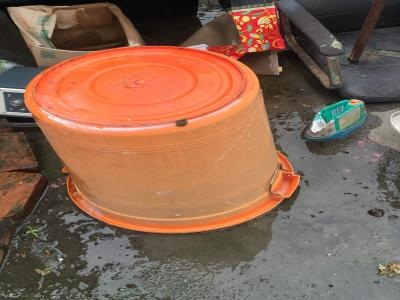box: (6, 3, 144, 65)
bucket: (21, 43, 309, 238)
